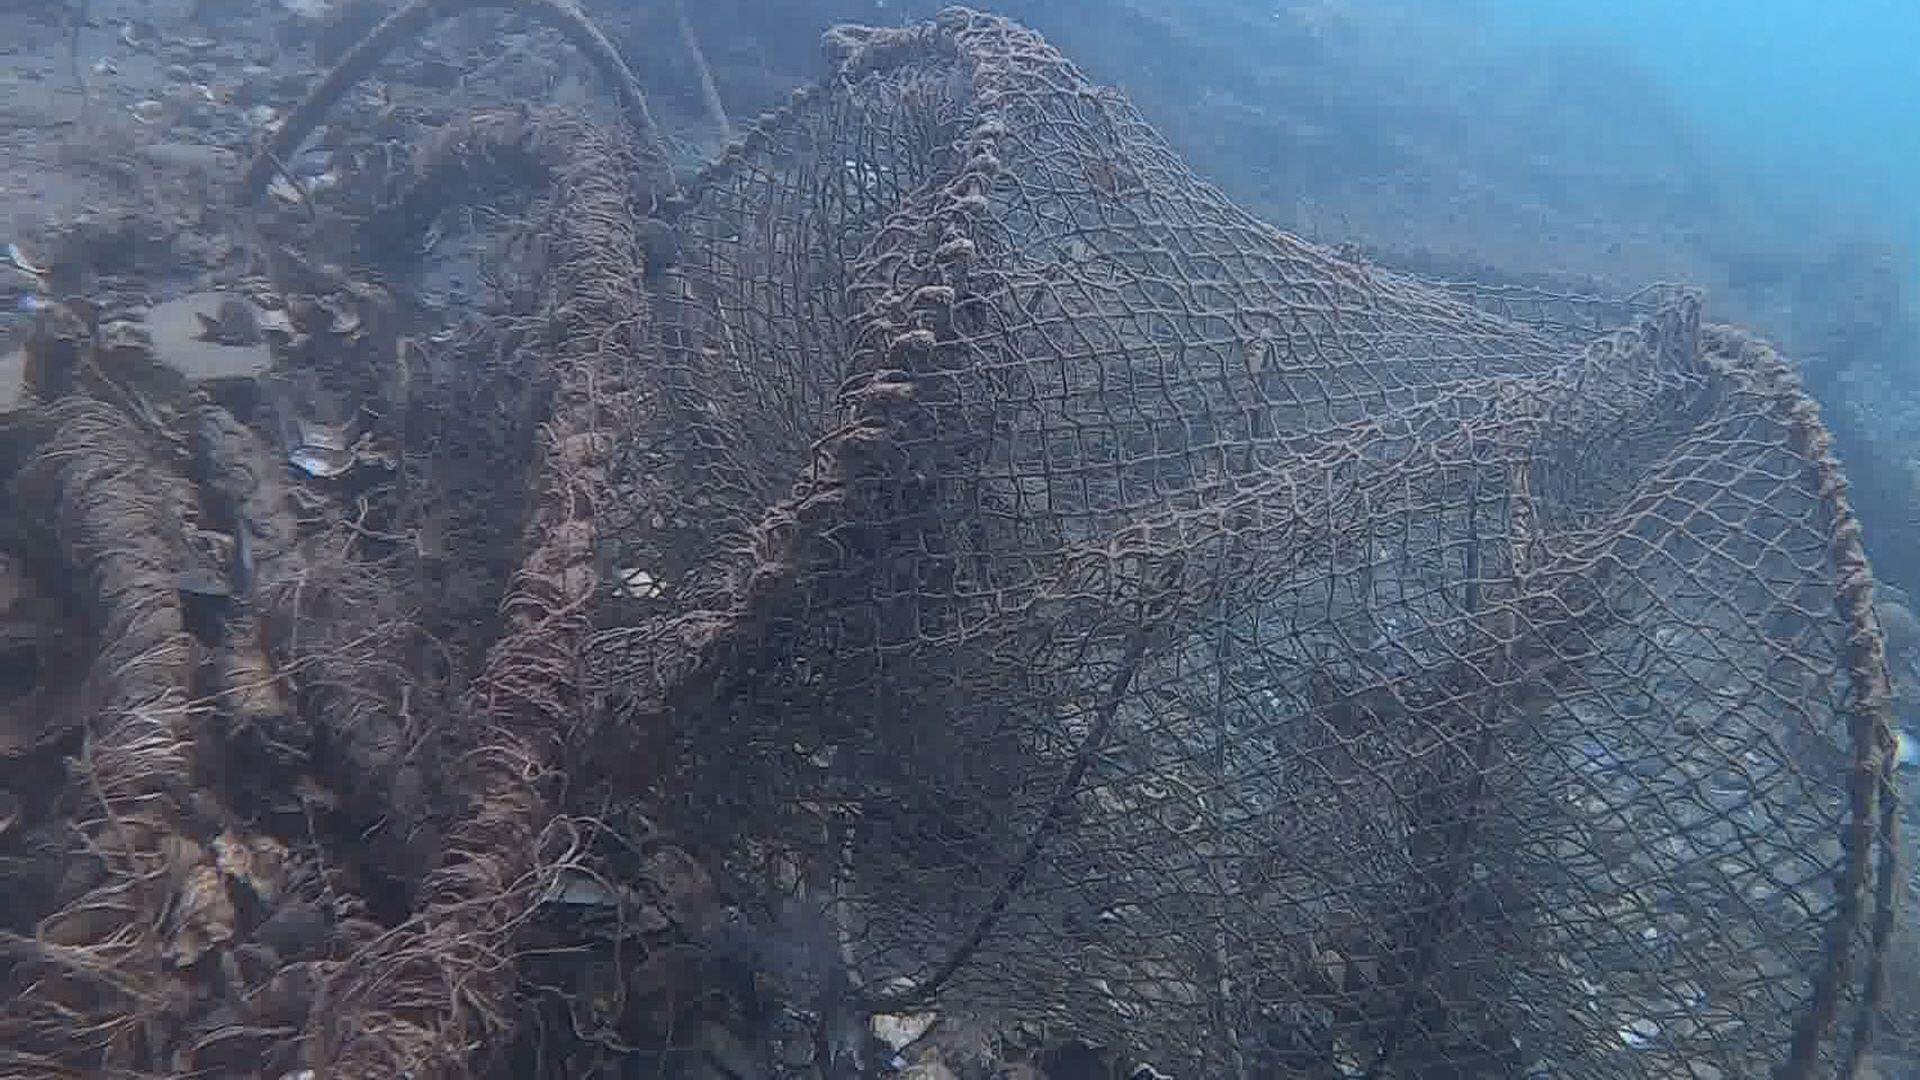bundle of ropes: (59, 404, 301, 742)
spring fish trap: (567, 5, 1905, 1080)
